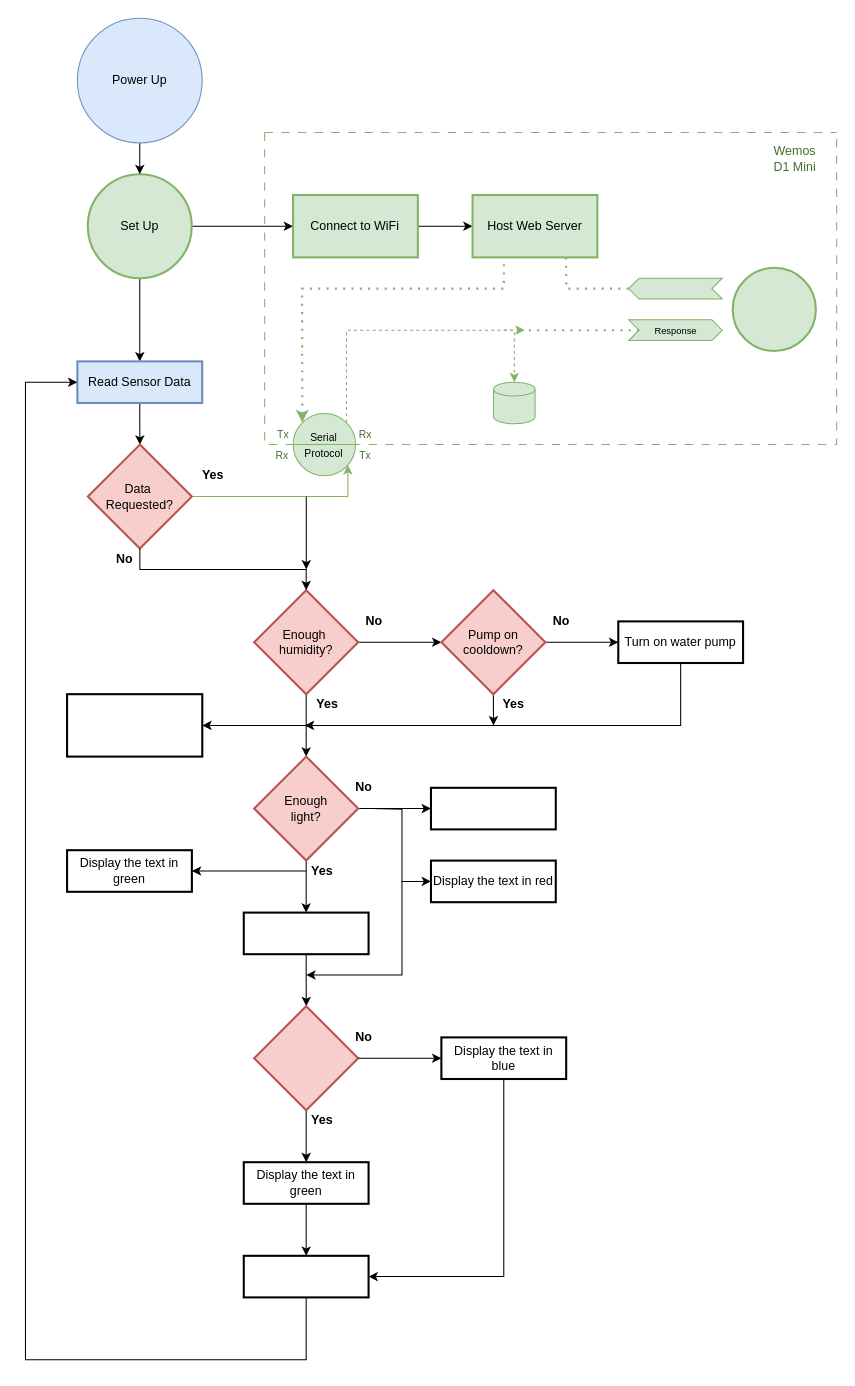
The diagram is 855 pixels wide and 1386 high, and some of its shapes have lost their labels. Each missing label, with the centre of its shape:
"Display data on screen" goes at [305,1276].
"Display the text in green and a happy face" goes at [134,725].
"Request Data" goes at [675,288].
"Right Temperature?" goes at [306,1058].
"Storage" goes at [513,402].
"Turn off LEDs if they are on" goes at [305,933].
"Turn on LEDs" goes at [492,808].
"Web Client(s)" goes at [773,309].
